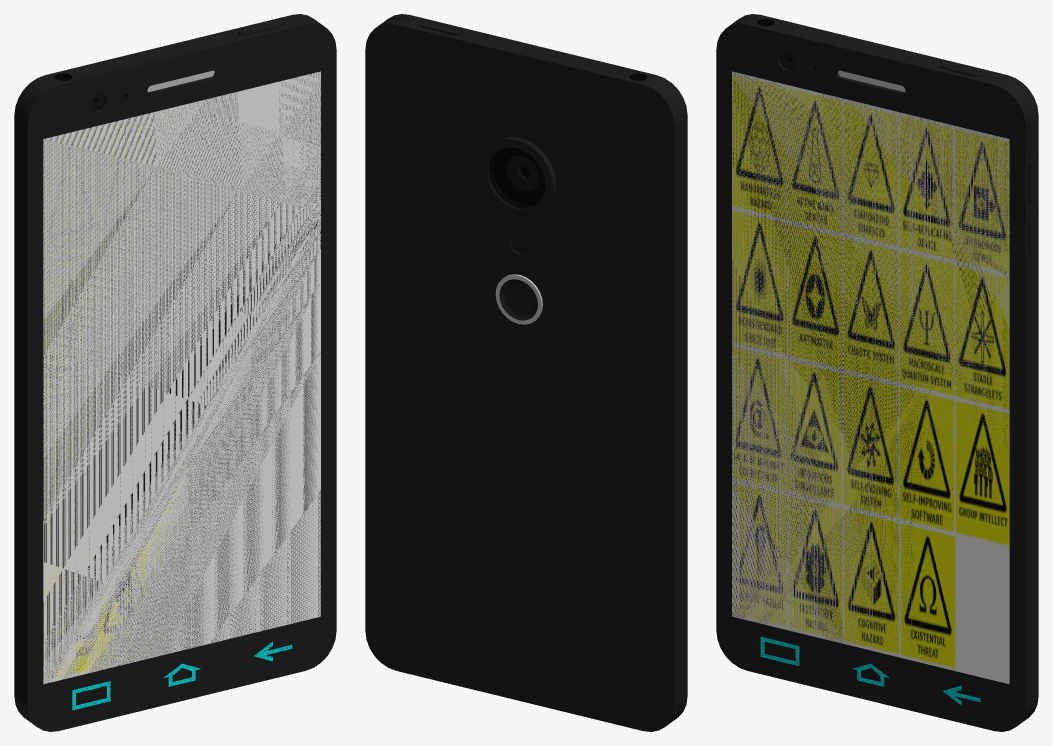
The picture shows the model from 3 angles, left to right: view 1: azimuth 30°, elevation 25°; view 2: azimuth 150°, elevation 25°; view 3: azimuth 330°, elevation 25°; orthographic projection.
Parts seen in each view (by area): view 1: SketchUp (×2), image_0; view 2: SketchUp (×7); view 3: SketchUp (×2), image_0.
Boxes of the visible parts, left/top/right/bottom form: SketchUp (×2): left=14, top=14, right=336, bottom=731; image_0: left=43, top=99, right=242, bottom=682; SketchUp (×7): left=365, top=14, right=687, bottom=731; SketchUp (×2): left=716, top=14, right=1038, bottom=731; image_0: left=732, top=71, right=1009, bottom=684.
Bounding box in the file's own units: 3.17 × 0.2953 × 6.32.
